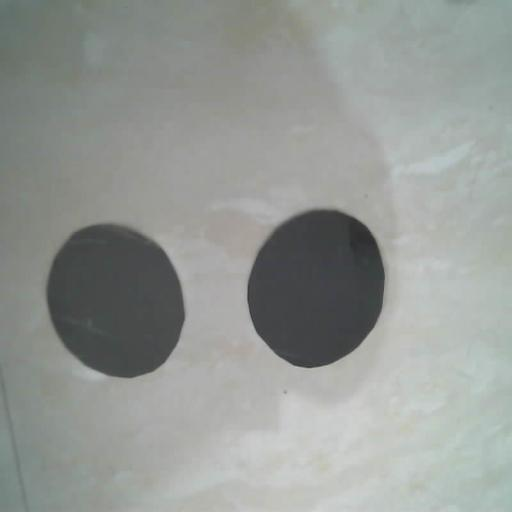pothole: (247, 208, 385, 370), (46, 222, 186, 379)
